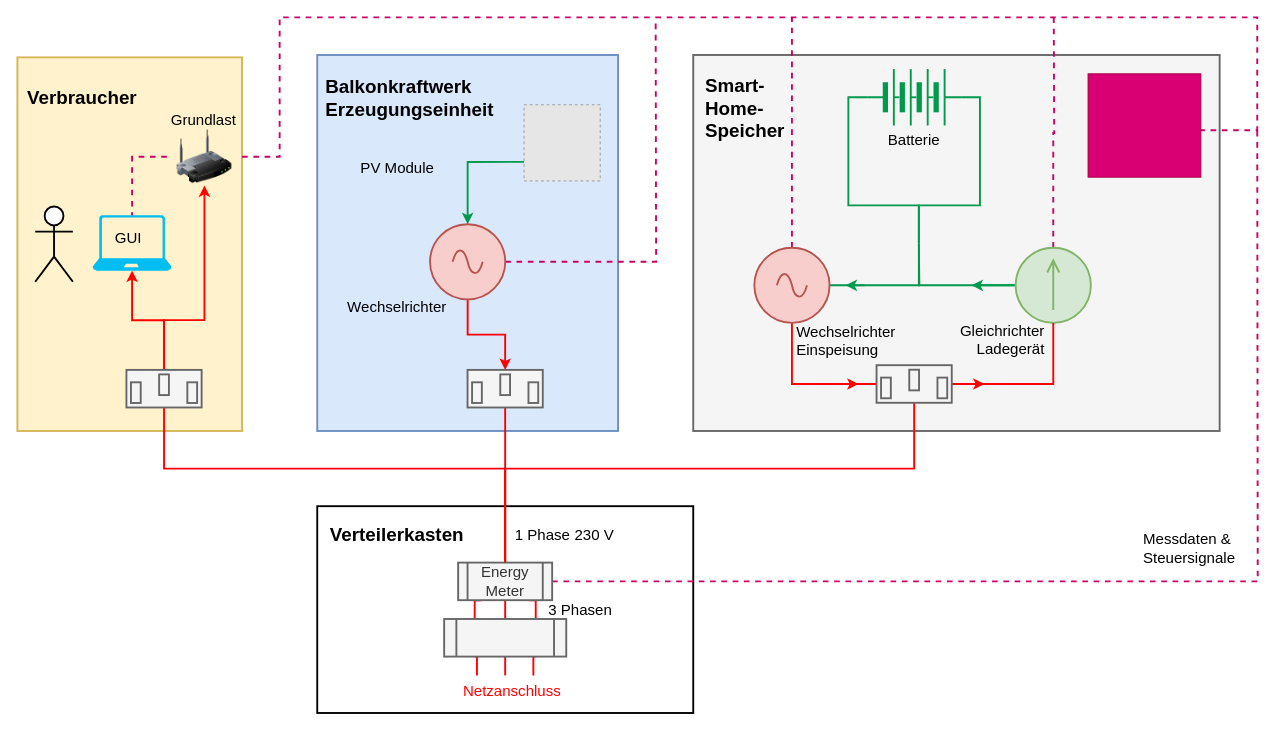
Image size: 1276x729. Some labels were removed from this diagram. Grey dashed boxes stand in for pictures. The shapes that lost their labels are listed below. From the top down, each one's centre as x and y in pixels, then its label:
point 1144,125: Intelligente "Smart Home" Steuerung
point 505,637: Stromzähler
